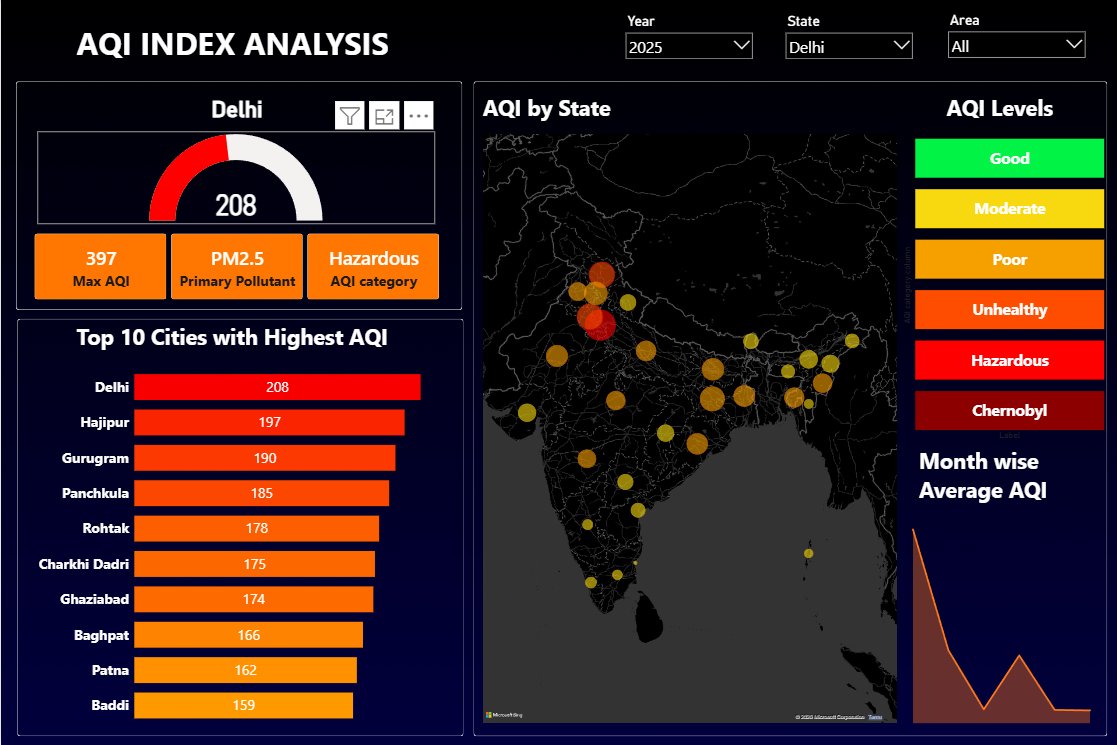

What the dashboard file says about the page in this screenshot:
{"tool":"powerbi","page":{"name":"AQI Index Analysis","canvas":[1920,1280],"ordinal":0},"visuals":[{"type":"textbox","box":[124.4,32.2,718.5,87.9],"z":0},{"type":"slicer","fields":{"Values":["Calendar Table.Year"]},"box":[1061.7,17.2,238.1,87.9],"z":1000},{"type":"slicer","fields":{"Values":["Day wise AQI Data.State"]},"box":[1336.2,17.2,238.1,87.9],"z":2000},{"type":"slicer","fields":{"Values":["Day wise AQI Data.Area"]},"box":[1615,15,255.2,87.9],"z":3000},{"type":"shape","box":[25.7,139.4,765.7,392.5],"z":4000},{"type":"gauge","fields":{"Y":["Day wise AQI Data.AVG AQI"]},"box":[62.2,225.2,682,158.7],"z":5000},{"type":"cardVisual","fields":{"Data":["Day wise AQI Data.Max AQI","Day wise AQI Data.Primary Pollutant","Day wise AQI Data.AQI category KPI"]},"box":[40.8,383.9,729.2,148],"z":6000},{"type":"card","fields":{"Values":["Day wise AQI Data.KPI Title"]},"box":[57.9,139.4,694.9,90.1],"z":7000},{"type":"shape","box":[810.7,139.4,1087.4,1123.9],"z":8000},{"type":"map","fields":{"Category":["Day wise AQI Data.State"],"Size":["Day wise AQI Data.AVG AQI"]},"box":[821.5,225.2,720.6,1020.9],"z":9000},{"type":"textbox","box":[821.5,154.4,259.5,70.8],"z":10000},{"type":"clusteredBarChart","fields":{"Category":["Day wise AQI Data.AQI category column"],"Y":["Day wise AQI Data.Label"]},"box":[1542.1,225.2,356,534.1],"z":11000},{"type":"textbox","box":[1617.2,154.4,214.5,75.1],"z":12000},{"type":"areaChart","fields":{"Y":["Day wise AQI Data.AVG AQI"],"Category":["Calendar Table.Date.Variation.Date Hierarchy.Month"]},"box":[1535.7,860.1,362.5,386.1],"z":13000},{"type":"textbox","box":[1570,759.3,296,115.8],"z":14000},{"type":"shape","box":[27.9,546.9,765.7,716.4],"z":15000},{"type":"clusteredBarChart","fields":{"Category":["Day wise AQI Data.Area"],"Y":["Day wise AQI Data.AVG AQI"]},"box":[57.9,604.8,694.9,658.4],"z":16000},{"type":"textbox","box":[124.4,546.9,574.8,60.1],"z":17000}]}

Visuals, with their boxes in screenshot pixels (x1, y1, x2, y2), scaled from the page's 1920x1280 canvas onto the 1117x745 screenshot:
textbox: <box>72,19,490,70</box>
slicer - Calendar Table.Year: <box>618,10,756,61</box>
slicer - Day wise AQI Data.State: <box>777,10,916,61</box>
slicer - Day wise AQI Data.Area: <box>940,9,1088,60</box>
shape: <box>15,81,460,310</box>
gauge - Day wise AQI Data.AVG AQI: <box>36,131,433,223</box>
cardVisual - Day wise AQI Data.Max AQI x Day wise AQI Data.Primary Pollutant: <box>24,223,448,310</box>
card - Day wise AQI Data.KPI Title: <box>34,81,438,134</box>
shape: <box>472,81,1104,735</box>
map - Day wise AQI Data.State x Day wise AQI Data.AVG AQI: <box>478,131,897,725</box>
textbox: <box>478,90,629,131</box>
clusteredBarChart - Day wise AQI Data.AQI category column x Day wise AQI Data.Label: <box>897,131,1104,442</box>
textbox: <box>941,90,1066,134</box>
areaChart - Day wise AQI Data.AVG AQI x Calendar Table.Date.Variation.Date Hierarchy.Month: <box>893,501,1104,725</box>
textbox: <box>913,442,1086,509</box>
shape: <box>16,318,462,735</box>
clusteredBarChart - Day wise AQI Data.Area x Day wise AQI Data.AVG AQI: <box>34,352,438,735</box>
textbox: <box>72,318,407,353</box>
